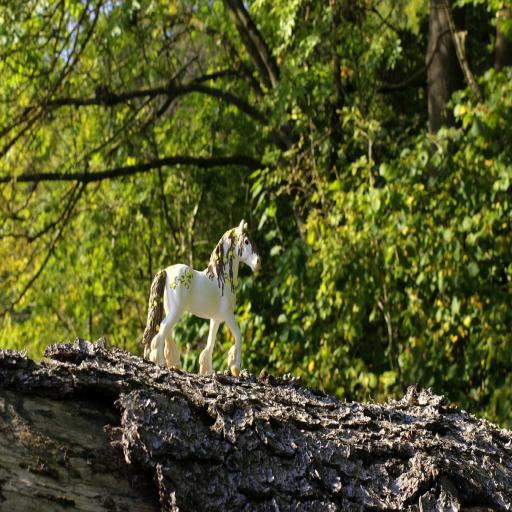Horse: (141, 217, 263, 379)
